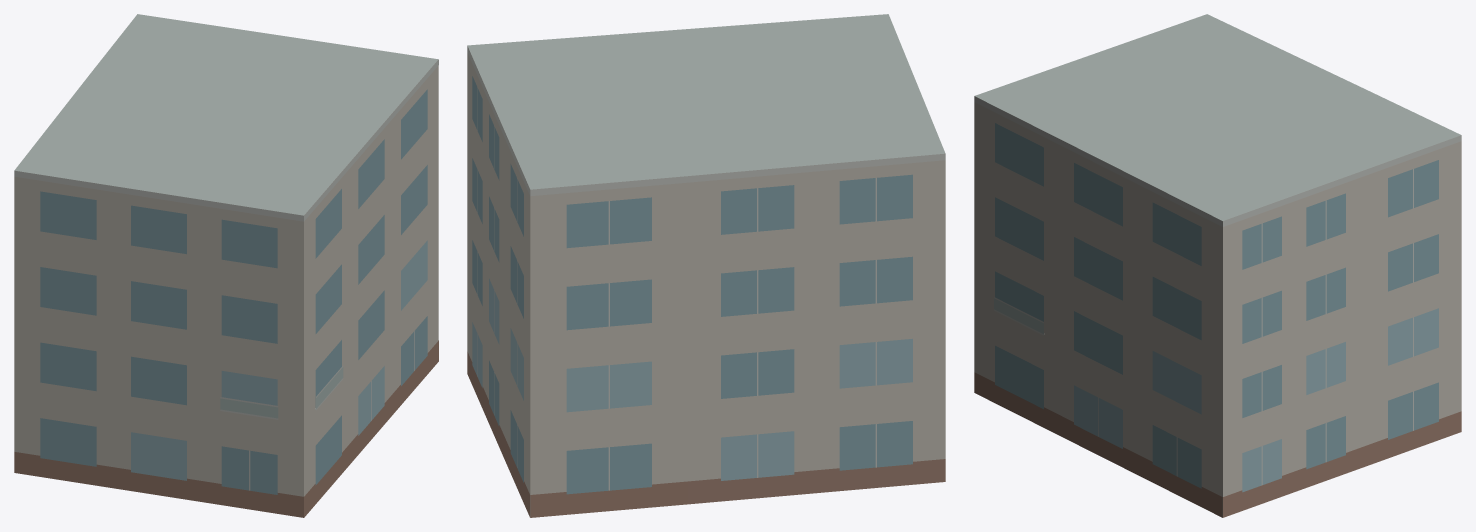
Rendered from survey-upis-32584629.glb.
3 renders of one model, left to right at view 1: azimuth 30°, elevation 25°; view 2: azimuth 150°, elevation 25°; view 3: azimuth 270°, elevation 25°, orthographic. The views are drawn at different scales.
Parts seen in each view (by area): view 1: survey-upis-32584629.tmp; view 2: survey-upis-32584629.tmp; view 3: survey-upis-32584629.tmp.
Part boxes in pixels (x1,y1,x2,y2): survey-upis-32584629.tmp: [14, 14, 438, 517]; survey-upis-32584629.tmp: [467, 14, 945, 517]; survey-upis-32584629.tmp: [974, 14, 1461, 517].
Bounding box in the file's own units: 18.28 × 12.2 × 18.17.
